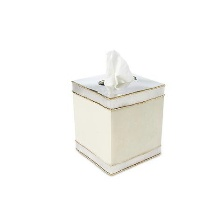plastic_box: (66, 66, 171, 178)
tissue: (97, 44, 138, 91)
